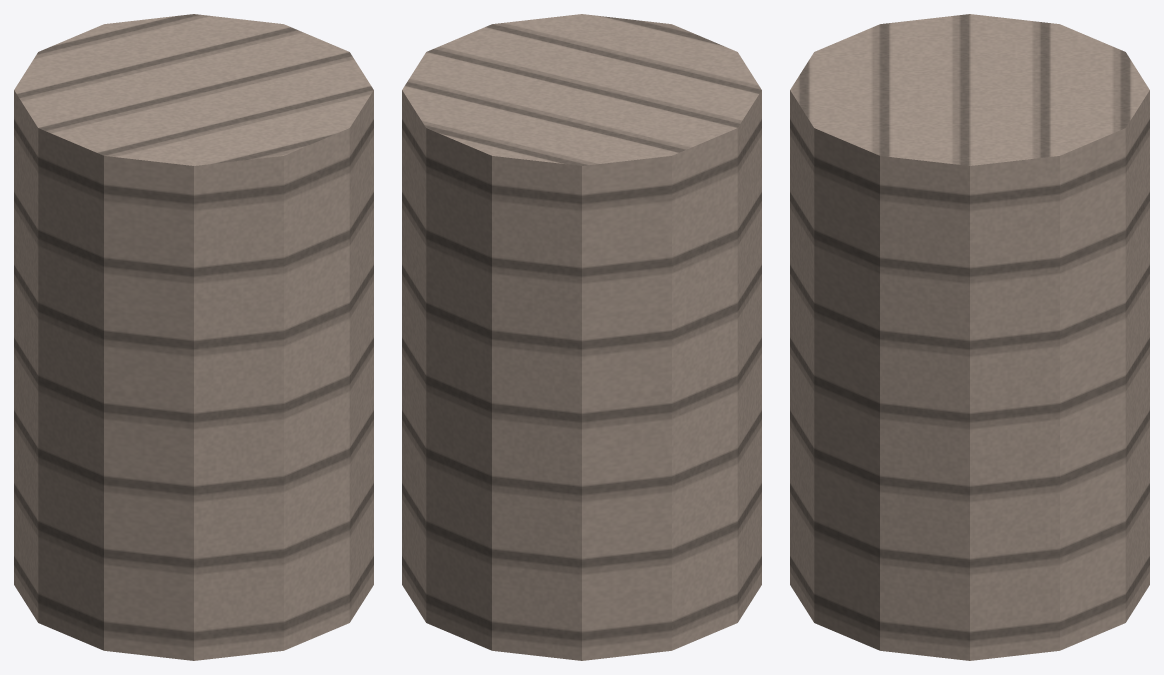
File: public_trash_can.glb
The picture shows the model from 3 angles, left to right: view 1: azimuth 30°, elevation 25°; view 2: azimuth 150°, elevation 25°; view 3: azimuth 270°, elevation 25°; orthographic projection.
Parts seen in each view (by area): view 1: public_trash_can-col; view 2: public_trash_can-col; view 3: public_trash_can-col.
Boxes of the visible parts, box(x1,y1,x2,y2) form: public_trash_can-col: box(14, 14, 373, 660); public_trash_can-col: box(402, 14, 761, 660); public_trash_can-col: box(790, 14, 1149, 660).
Bounding box in the file's own units: 0.56 × 0.85 × 0.56.
1 material, 1 textured.
